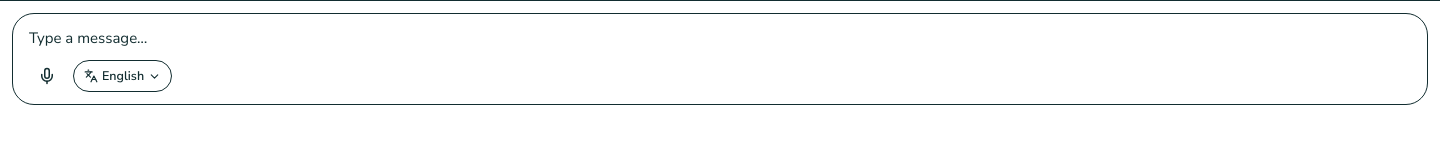
Test: dictation › a blocked microphone stops dictation and says why
Click the button named "Dictate": (47, 76) x1=29 y1=58 x2=65 y2=94
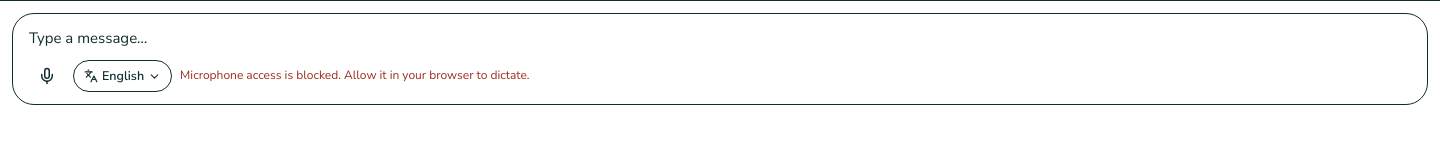
Now the message shows "Microphone access is blocked.", box x1=180 y1=67 x2=530 y2=83
